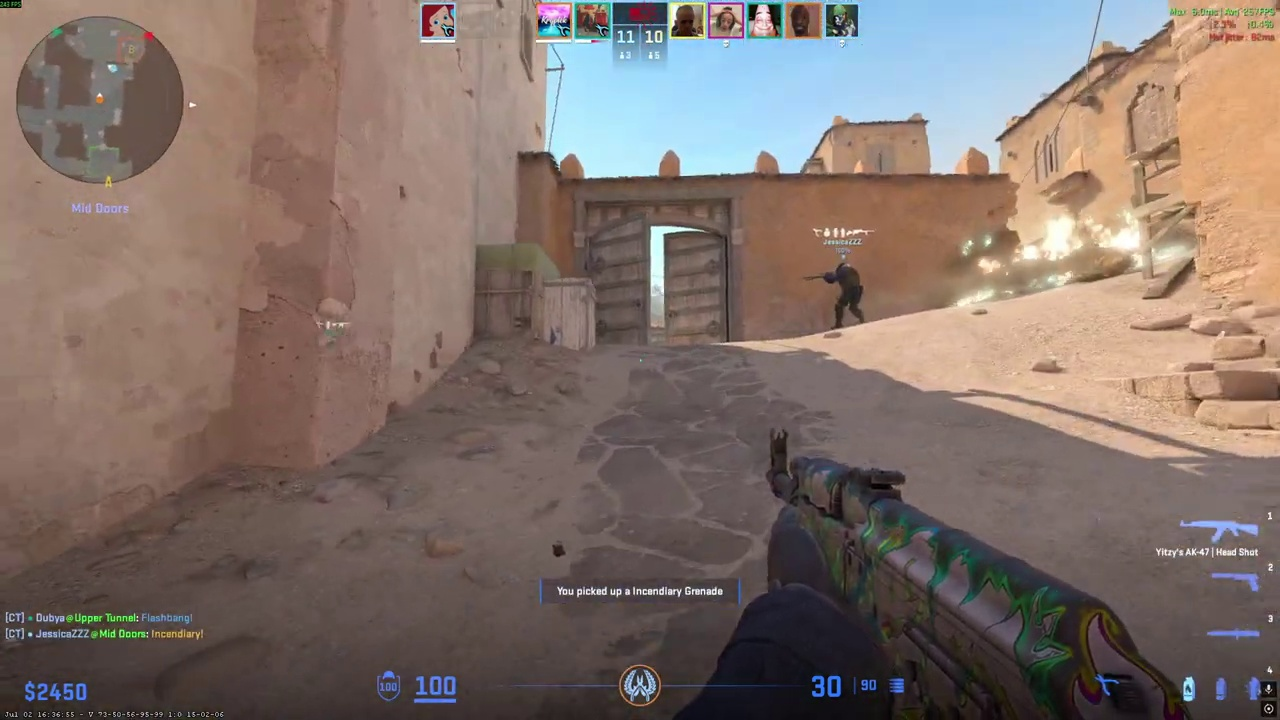CT: (827, 262, 865, 328)
